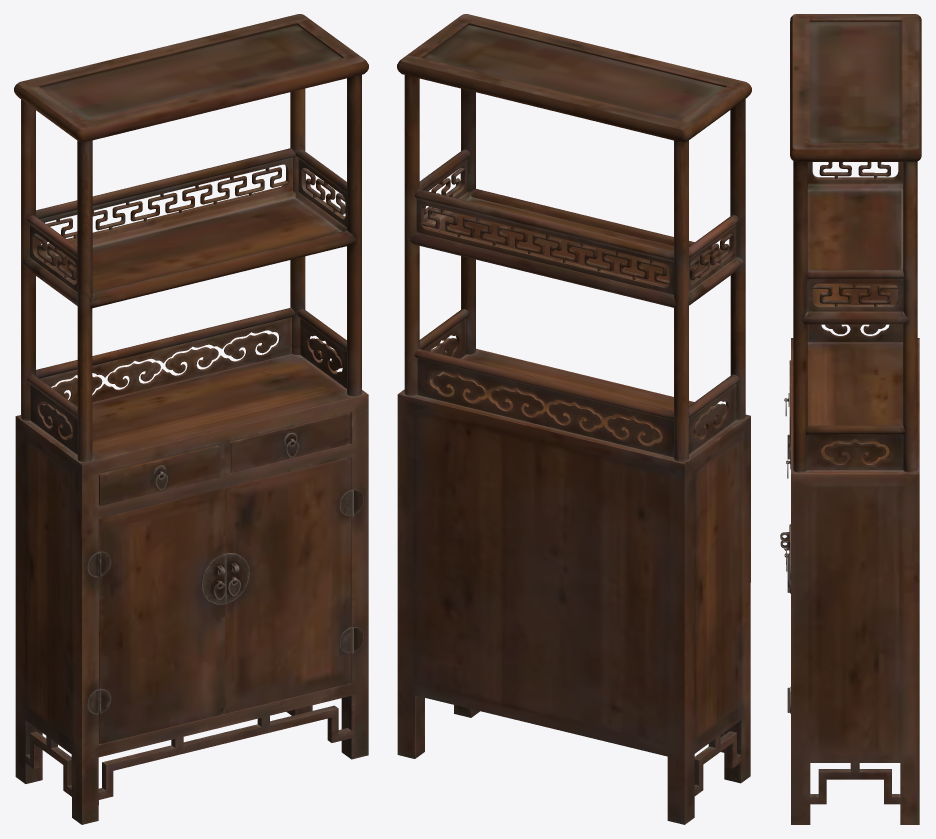
The model's file is chinese-cabinet.glb.
The picture shows the model from 3 angles, left to right: view 1: azimuth 30°, elevation 25°; view 2: azimuth 150°, elevation 25°; view 3: azimuth 270°, elevation 25°; orthographic projection. The views are drawn at different scales.
Parts seen in each view (by area): view 1: chinese_cabinet; view 2: chinese_cabinet; view 3: chinese_cabinet.
Boxes of the visible parts, box(x1,y1,x2,y2) form: chinese_cabinet: box(14, 14, 368, 824); chinese_cabinet: box(397, 14, 751, 824); chinese_cabinet: box(780, 14, 921, 824).
Size of the model in its own units: 1.26 by 2.87 by 0.5452.
Materials: 1 (1 with a texture image).
